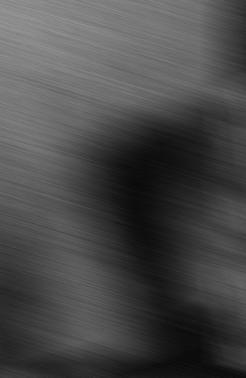Airbag: (0, 0, 246, 378), (228, 0, 246, 377), (0, 373, 246, 378), (228, 373, 246, 378)
